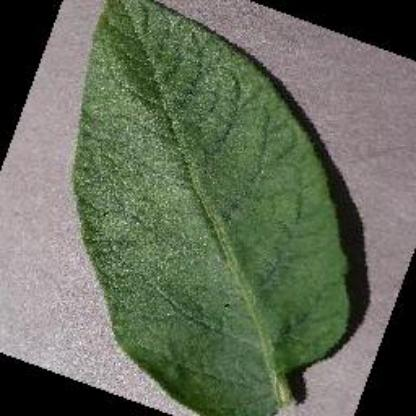Healthy-plant: (67, 0, 359, 416)
